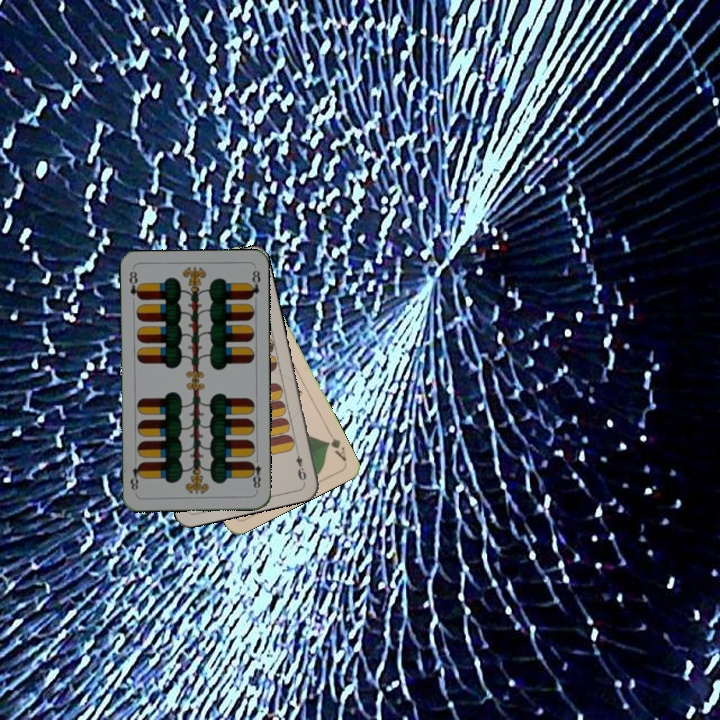E8: (246, 453, 263, 494), (125, 267, 143, 302)
E9: (292, 444, 309, 483)
GA: (322, 427, 349, 464)
